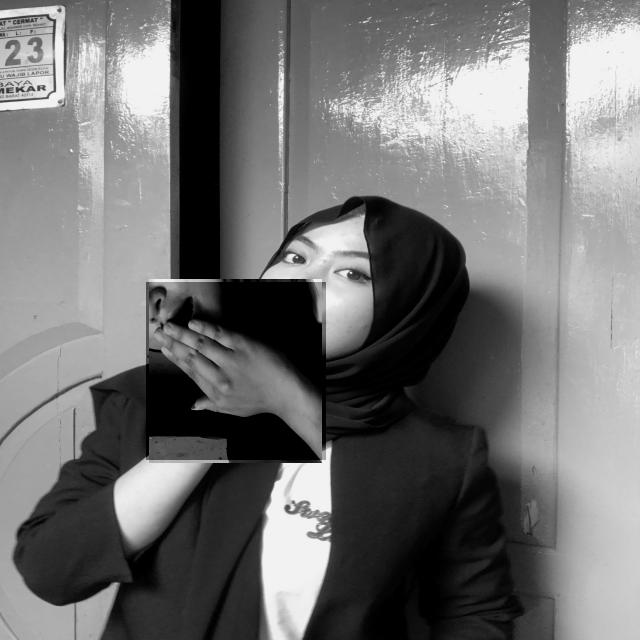ngantuk: (146, 282, 326, 460)
